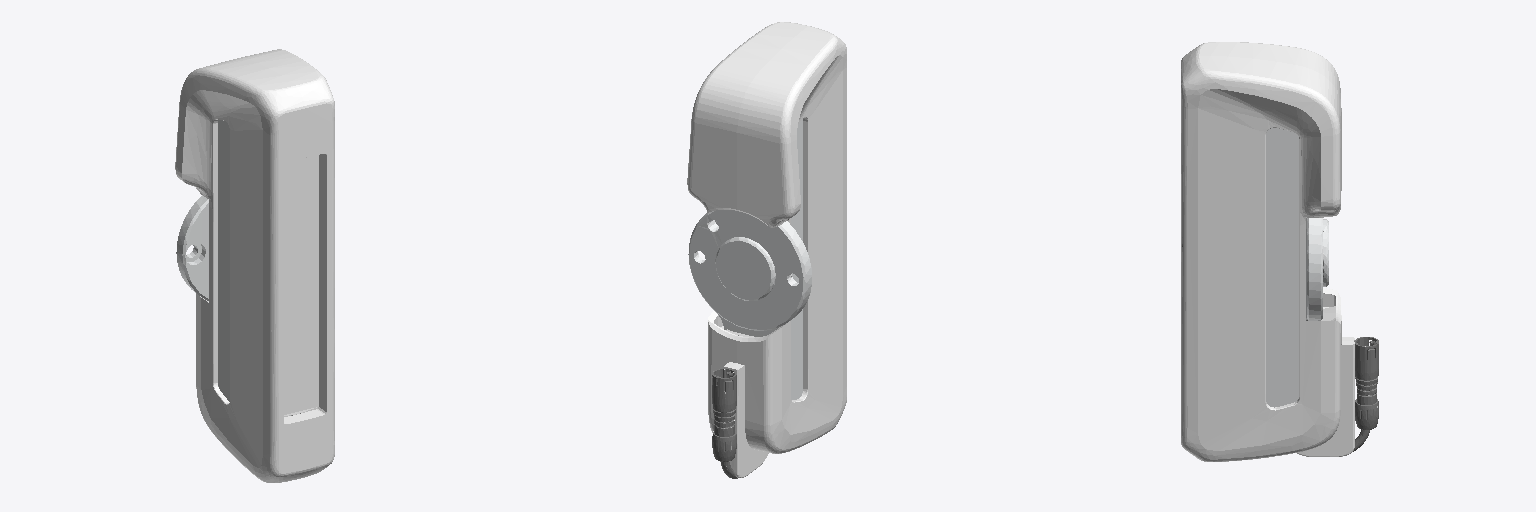
3 views of the same model, side by side, from view 1: azimuth 30°, elevation 25°; view 2: azimuth 150°, elevation 25°; view 3: azimuth 270°, elevation 25° (orthographic).
Parts seen in each view (by area): view 1: node0; view 2: node0; view 3: node0.
Part boxes in pixels (x1,y1,x2,y2): node0: (175,49,334,482); node0: (687,22,846,478); node0: (1181,42,1378,461).
Size of the model in its own units: 0.063 by 0.2045 by 0.0919.
5 materials, 1 textured.